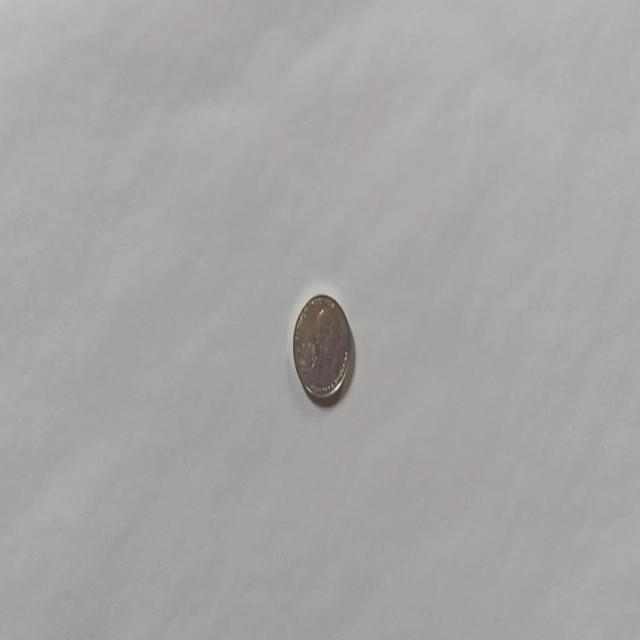lima ratus rupiah: (292, 292, 352, 406)
